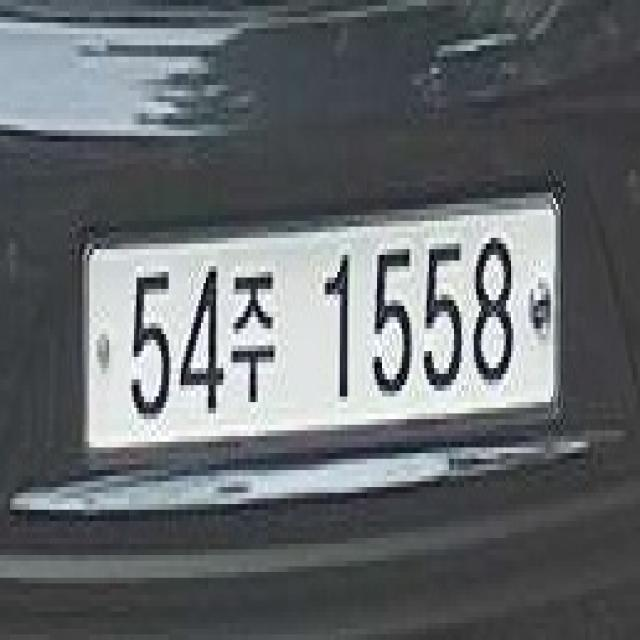1: (315, 243, 360, 424)
4: (174, 232, 228, 419)
5: (119, 244, 176, 431), (424, 232, 472, 396), (375, 215, 414, 414)
8: (469, 215, 521, 414)
ju: (228, 255, 288, 419)
license_plate: (80, 187, 576, 481)
